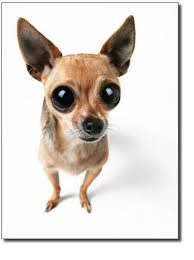chihuahua: (17, 14, 137, 214)
